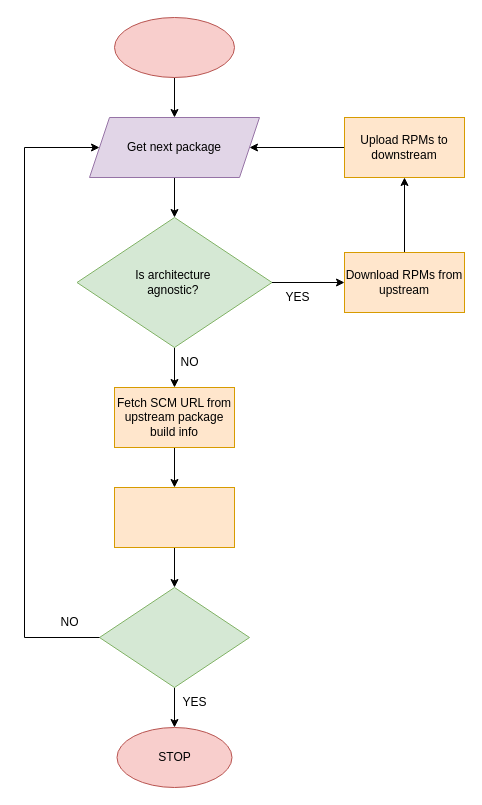
The diagram is 482 pixels wide and 805 high, and some of its shapes have lost their labels. Each missing label, with the box of its shape:
All packages built?: (98, 586, 250, 688)
Call build API in downstream Koji: (114, 486, 234, 548)
START: (114, 16, 234, 78)
